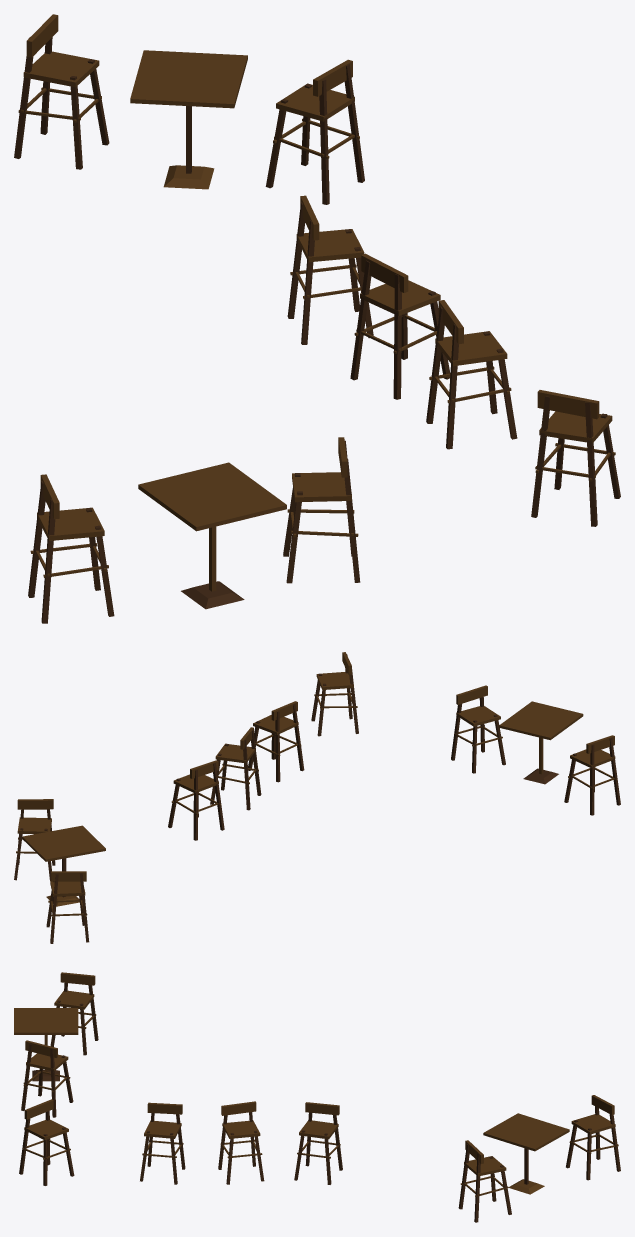
File: barhocker.dae
3 renders of one model, top to bottom at view 1: azimuth 30°, elevation 25°; view 2: azimuth 150°, elevation 25°; view 3: azimuth 270°, elevation 25°, orthographic. The views are drawn at different scales.
Visible parts, largest first — view 1: Würfel.5 (×8), oben (×2), Würfel.3 (×4), Würfel (×3), unten (×2), quer.4 (×2); view 2: Würfel.5 (×8), oben (×2); view 3: Würfel.5 (×8), oben (×2), quer.4 (×4).
Boxes of the visible parts, x1=… form: Würfel.5 (×8): x1=23, y1=51, x2=612, y2=540; oben (×2): x1=130, y1=50, x2=286, y2=531; Würfel.3 (×4): x1=344, y1=64, x2=597, y2=526; Würfel (×3): x1=319, y1=79, x2=549, y2=517; unten (×2): x1=163, y1=165, x2=244, y2=609; quer.4 (×2): x1=361, y1=253, x2=599, y2=419; Würfel.5 (×8): x1=17, y1=672, x2=615, y2=896; oben (×2): x1=22, y1=701, x2=583, y2=861; Würfel.5 (×8): x1=24, y1=990, x2=615, y2=1176; oben (×2): x1=14, y1=1008, x2=569, y2=1151; quer.4 (×4): x1=60, y1=972, x2=339, y2=1115.
Bounding box in the file's own units: 114 × 18.97 × 156.
